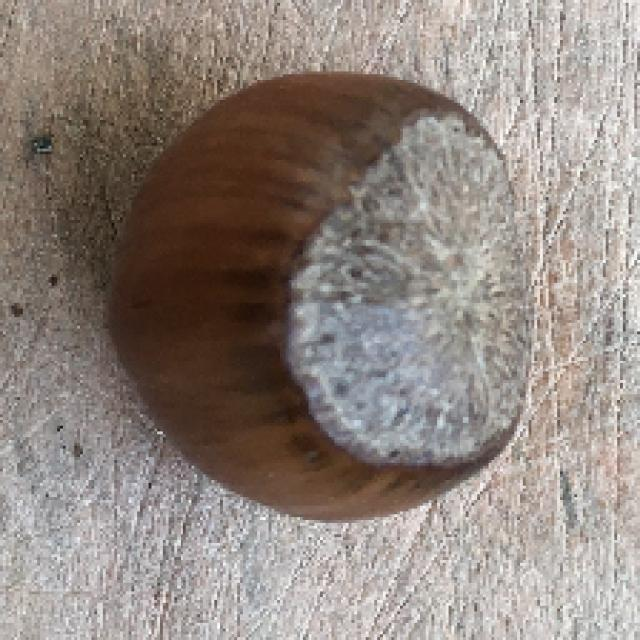qualityHazelnut: (92, 68, 553, 540)
